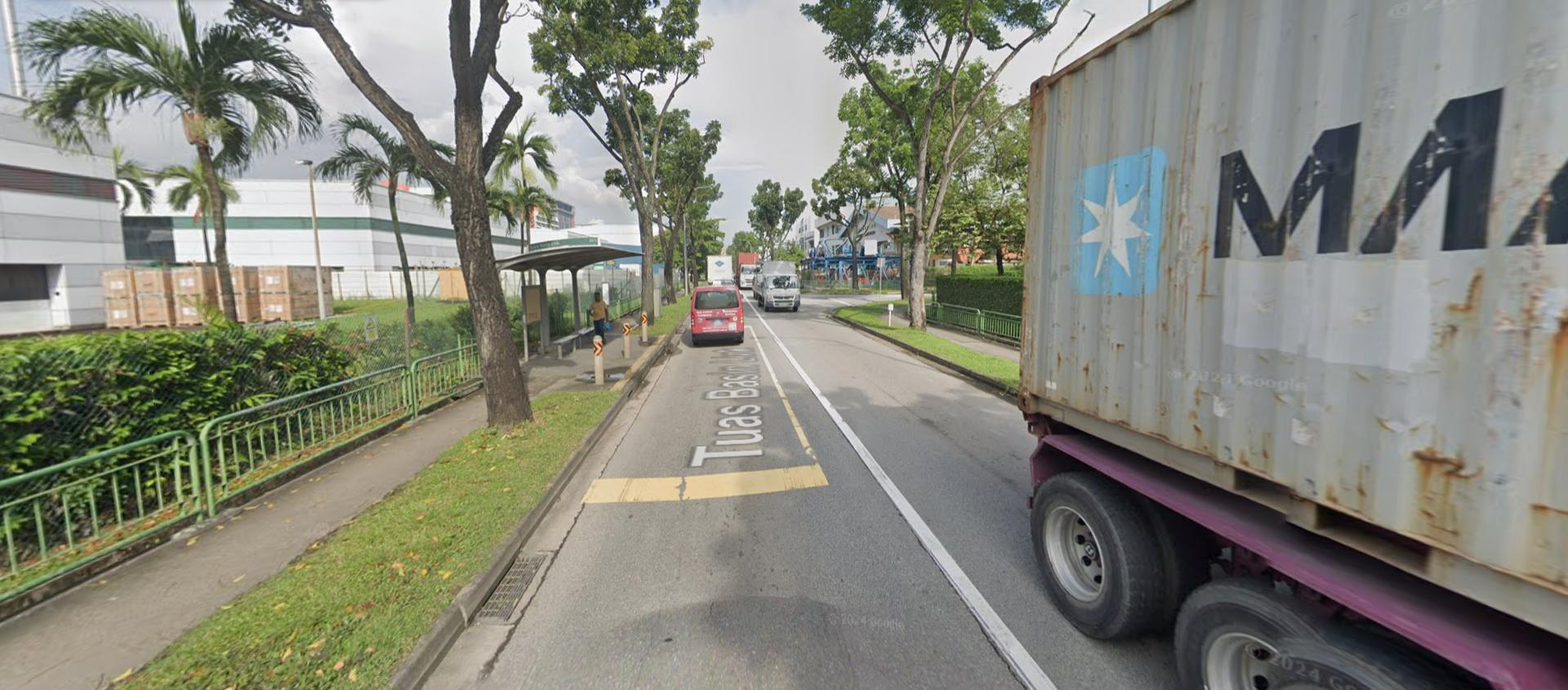defect: (474, 554, 548, 623)
